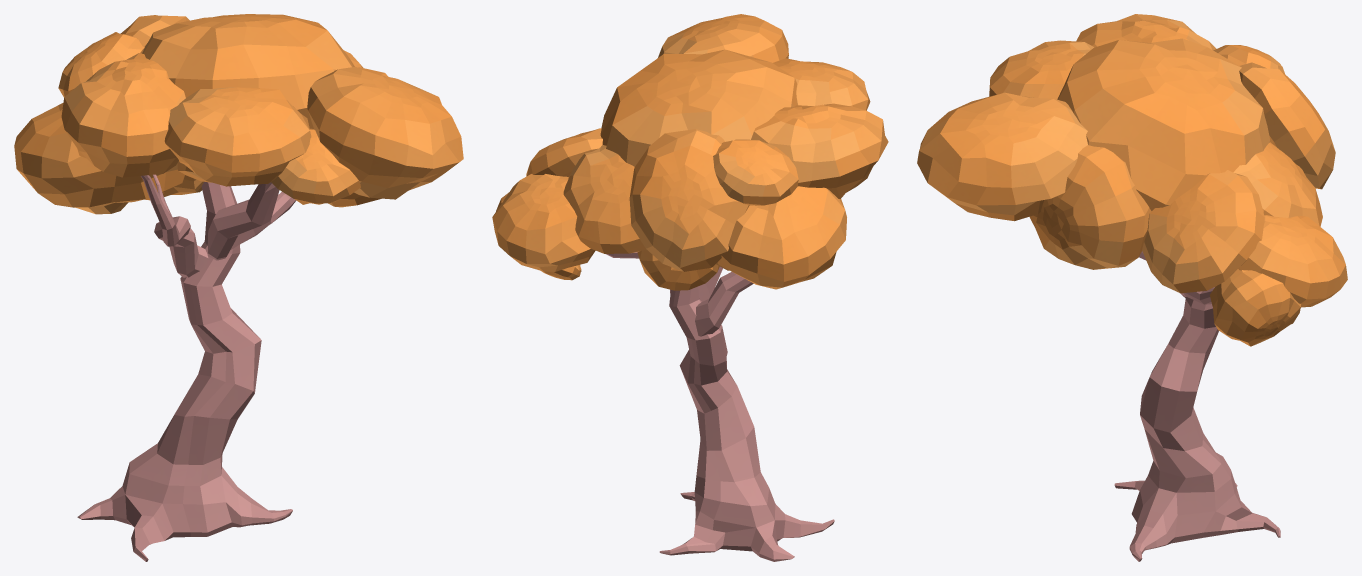
Rendered from tree_2_a.glb.
The picture shows the model from 3 angles, left to right: view 1: azimuth 30°, elevation 25°; view 2: azimuth 150°, elevation 25°; view 3: azimuth 270°, elevation 25°; orthographic projection. The views are drawn at different scales.
Visible parts, largest first — view 1: crown_2_a, trunk_2_a; view 2: crown_2_a, trunk_2_a; view 3: crown_2_a, trunk_2_a.
Part boxes in pixels (x1,y1,x2,y2): crown_2_a: (14,14,463,214); trunk_2_a: (77,174,296,561); crown_2_a: (492,14,888,290); trunk_2_a: (606,252,834,561); crown_2_a: (917,14,1347,346); trunk_2_a: (1114,251,1280,561).
Bounding box in the file's own units: 4.06 × 5.28 × 4.24.
Materials: 1 (1 with a texture image).
